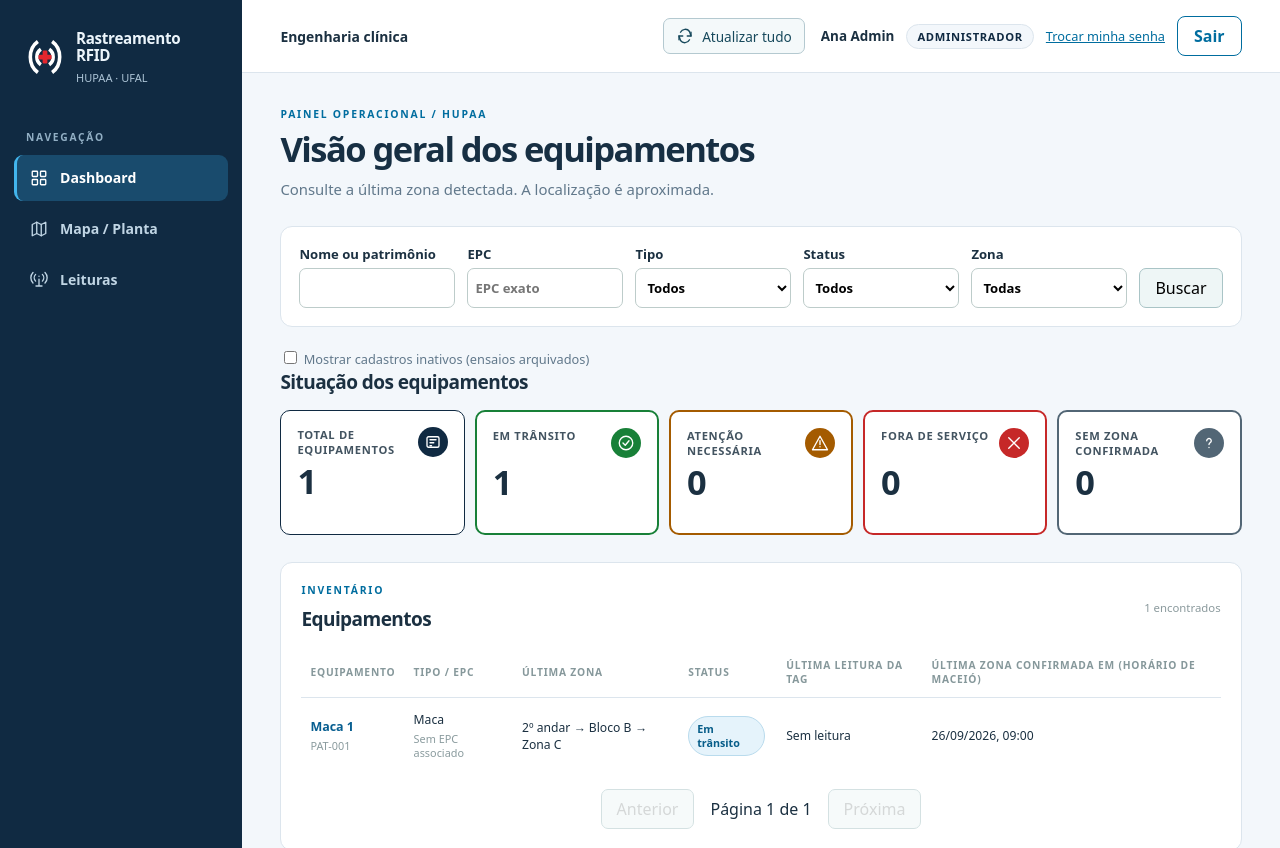
Test case: correção manual no painel do equipamento › mesma zona não grava: Nada a corrigir
The image size is (1280, 848).
Click the button "Maca 1 PAT-001": [332, 735] box [310,718,354,753]
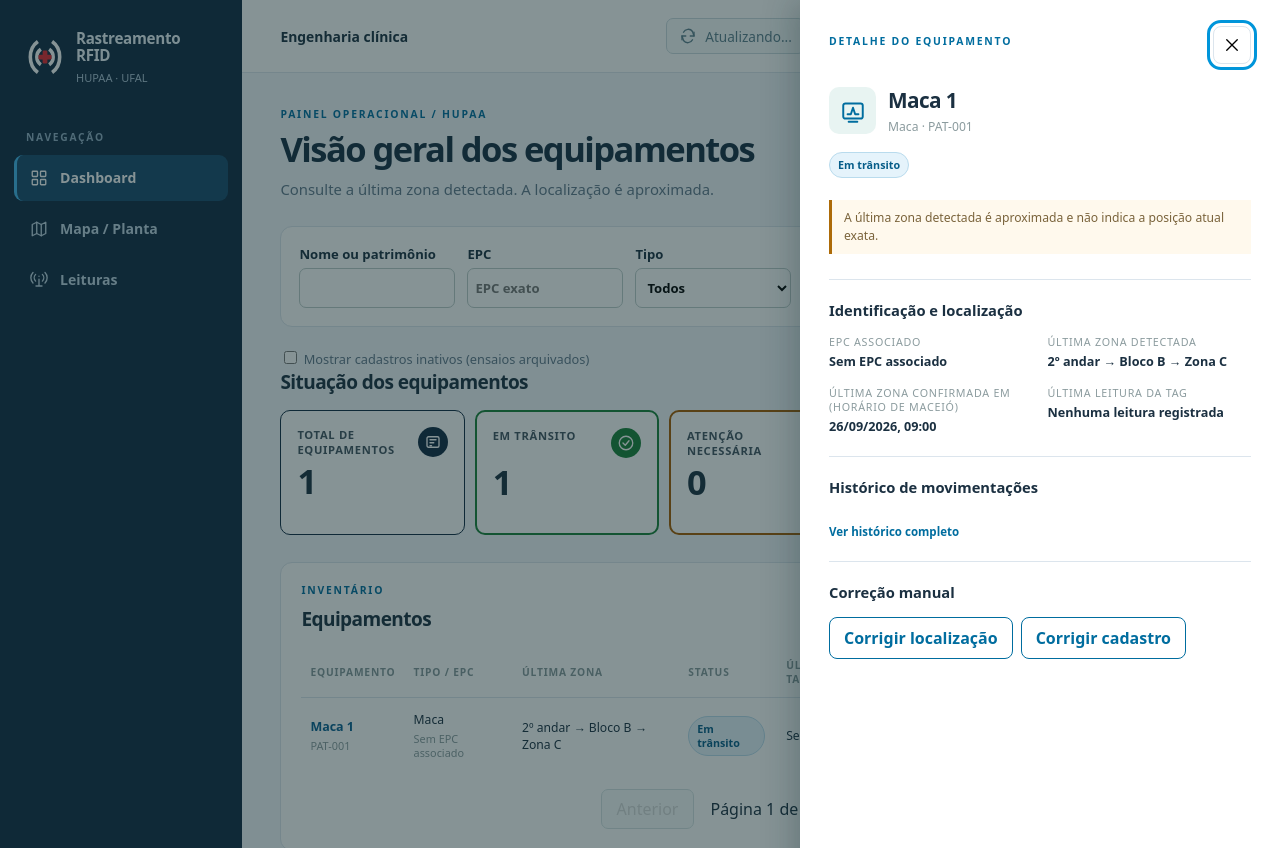
Click the button "Corrigir localização": [921, 638] box [829,617,1013,659]
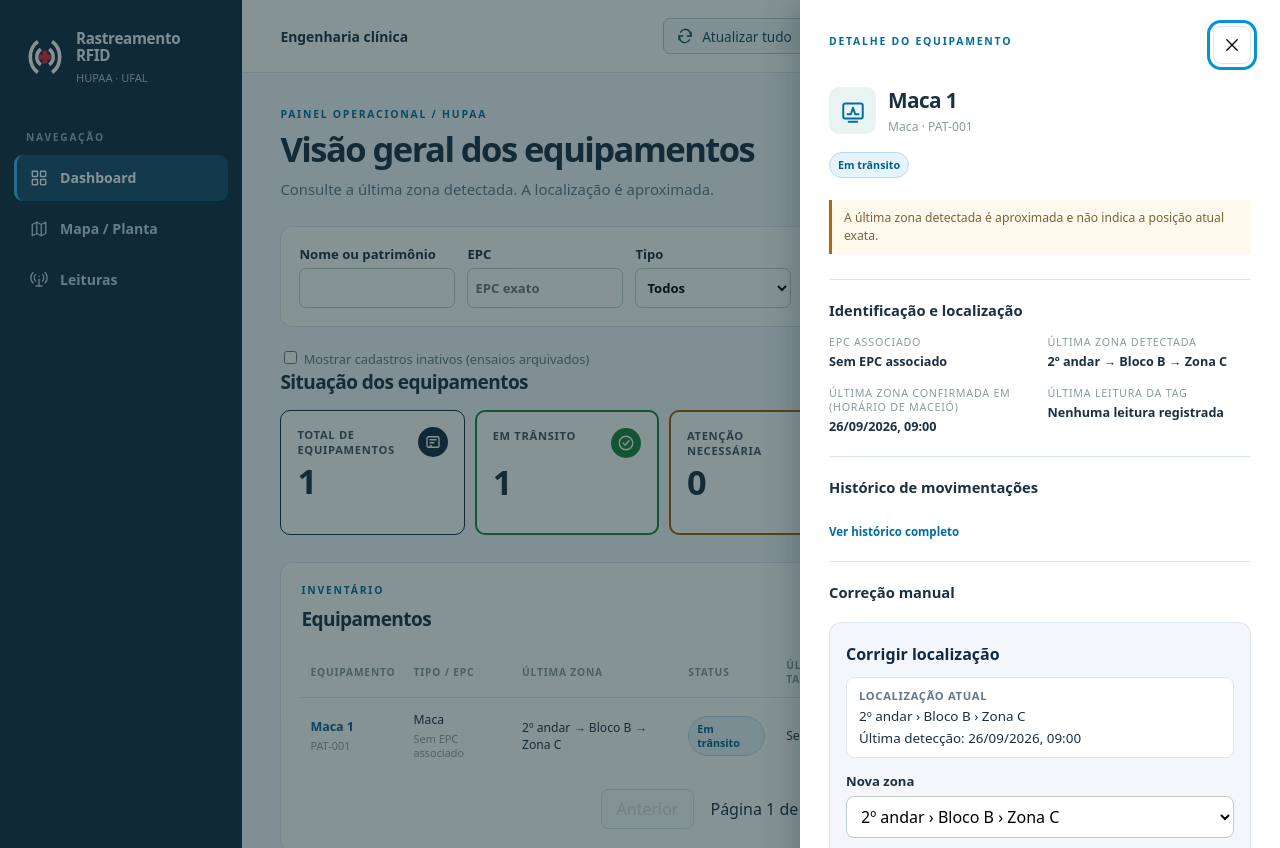
Now the element "Localização atual" is shown, box [846,677,1234,758]
Select "2º andar › Bloco B › Zona C" in the dropdown labelled "Nova zona": [1040, 817] box [846,796,1234,838]
(page scrolled)
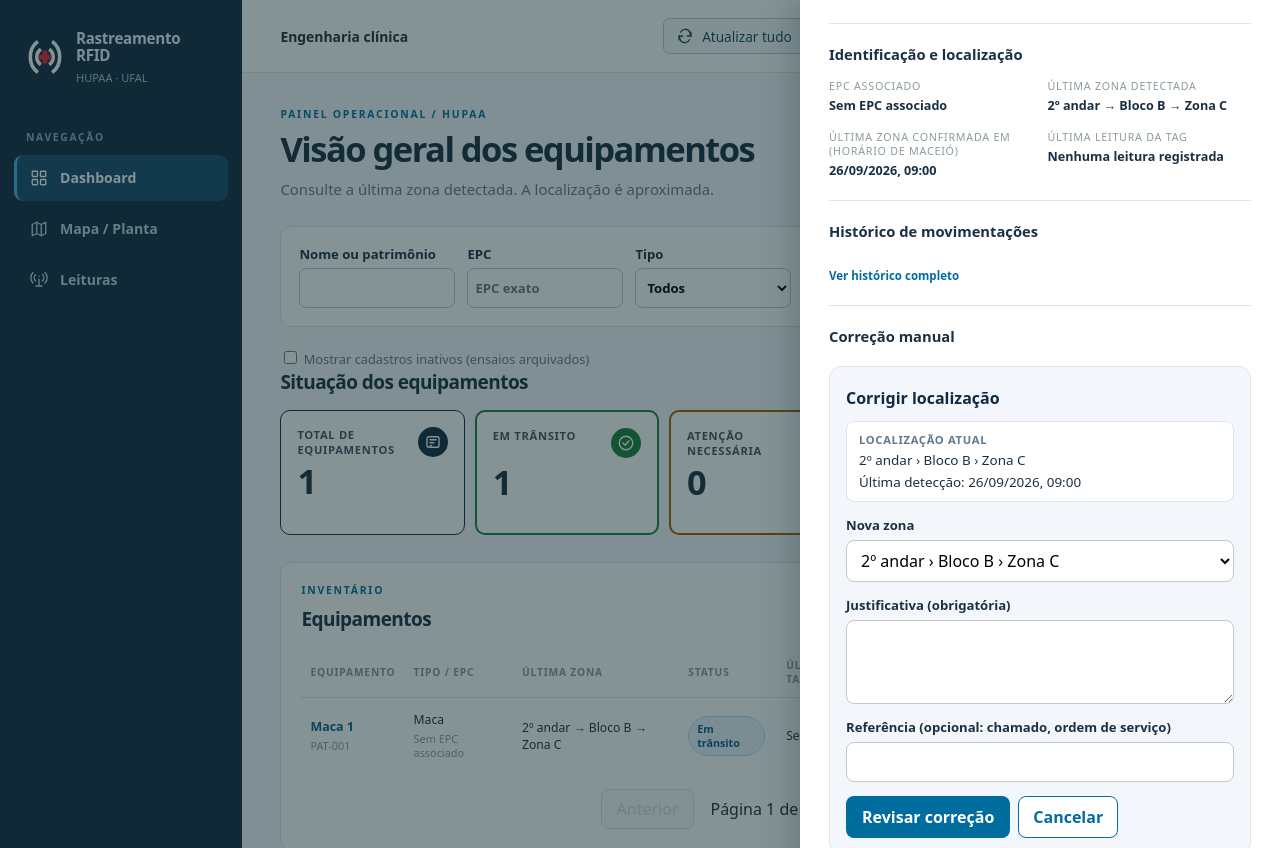
In the text box labelled "Justificativa (obrigatória)": [1040, 662] box [846,620,1234,704], type "Vista na sala D"
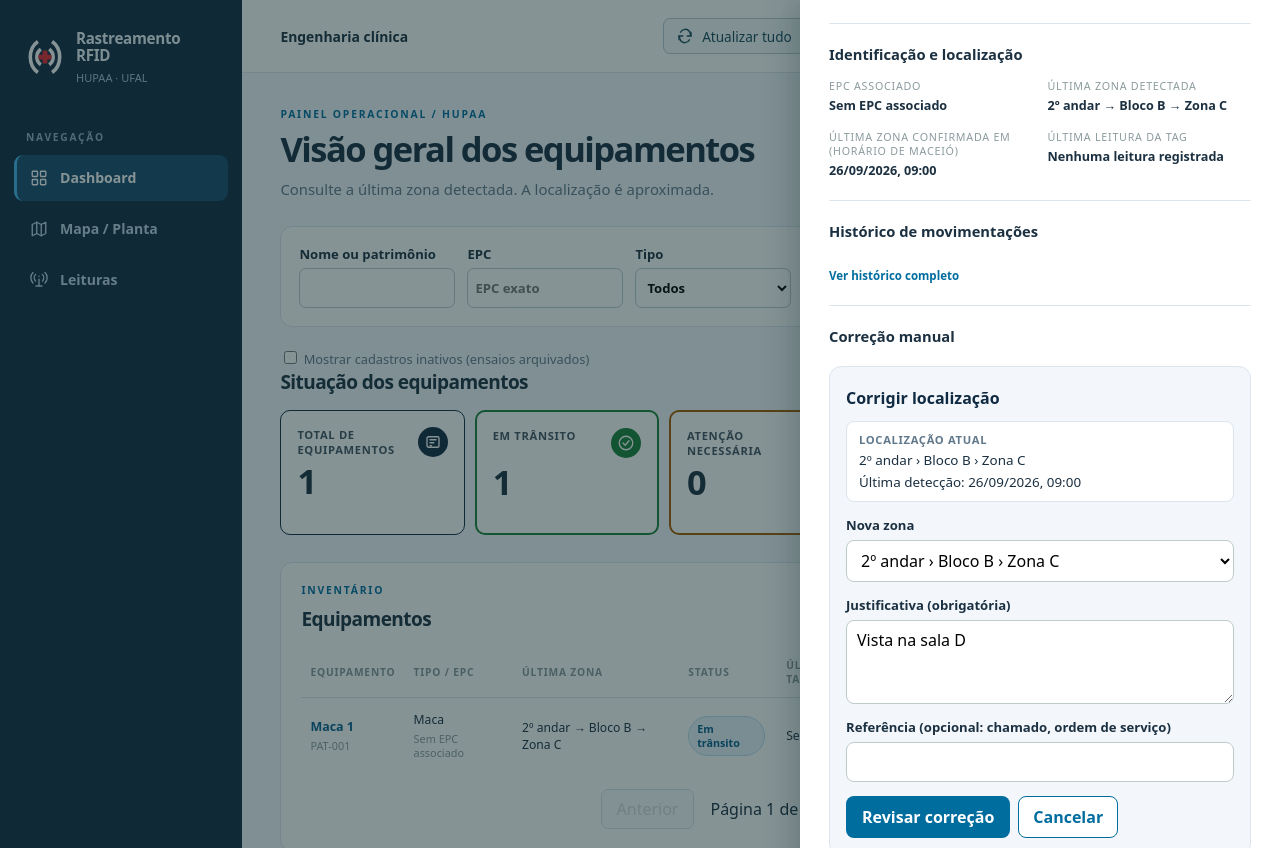
Click the button "Revisar correção": [928, 817] box [846,796,1010,838]
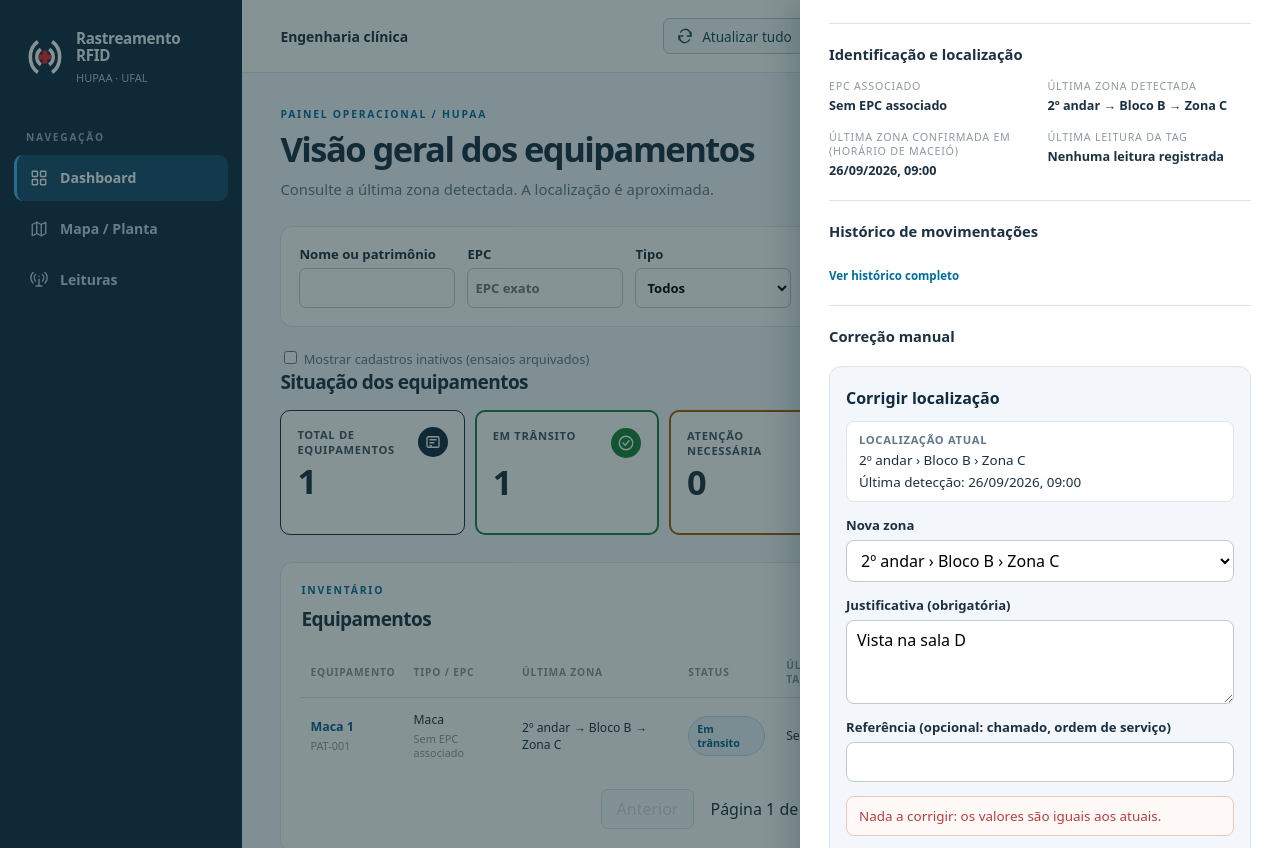
Now the message shows "Nada a corrigir", box [859,807,1161,825]
